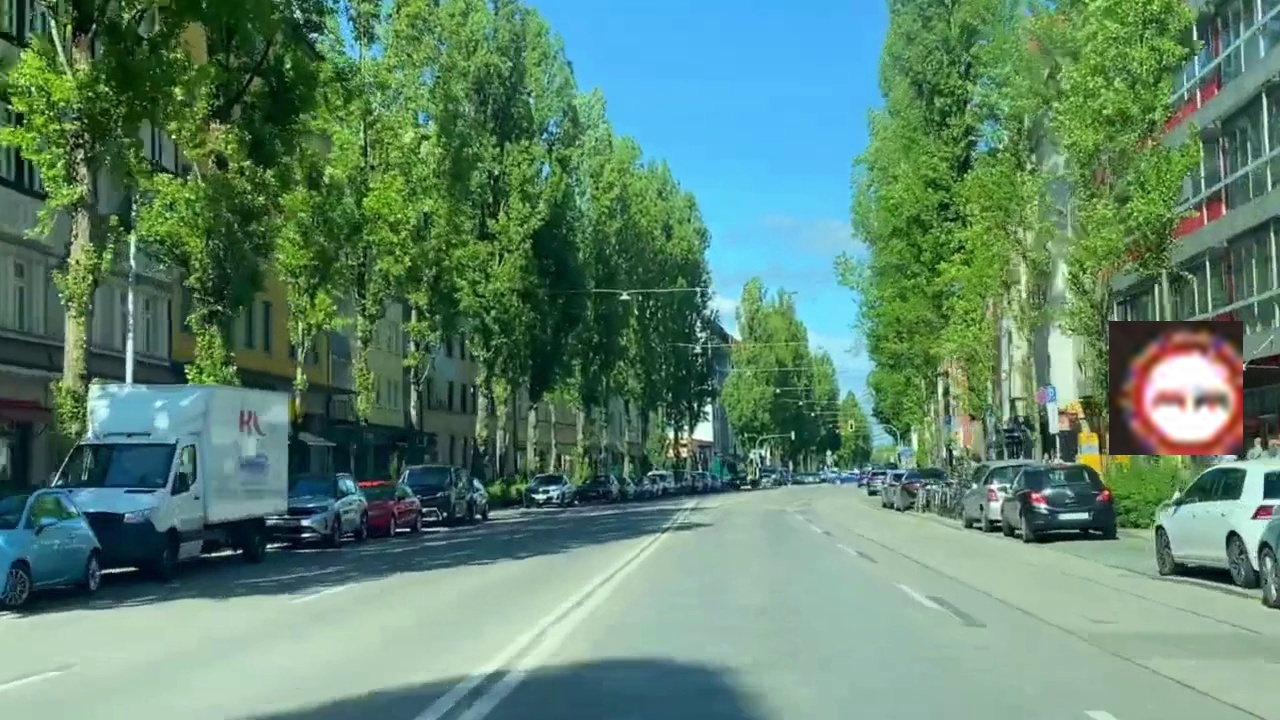No passing: (1109, 321, 1243, 455)
